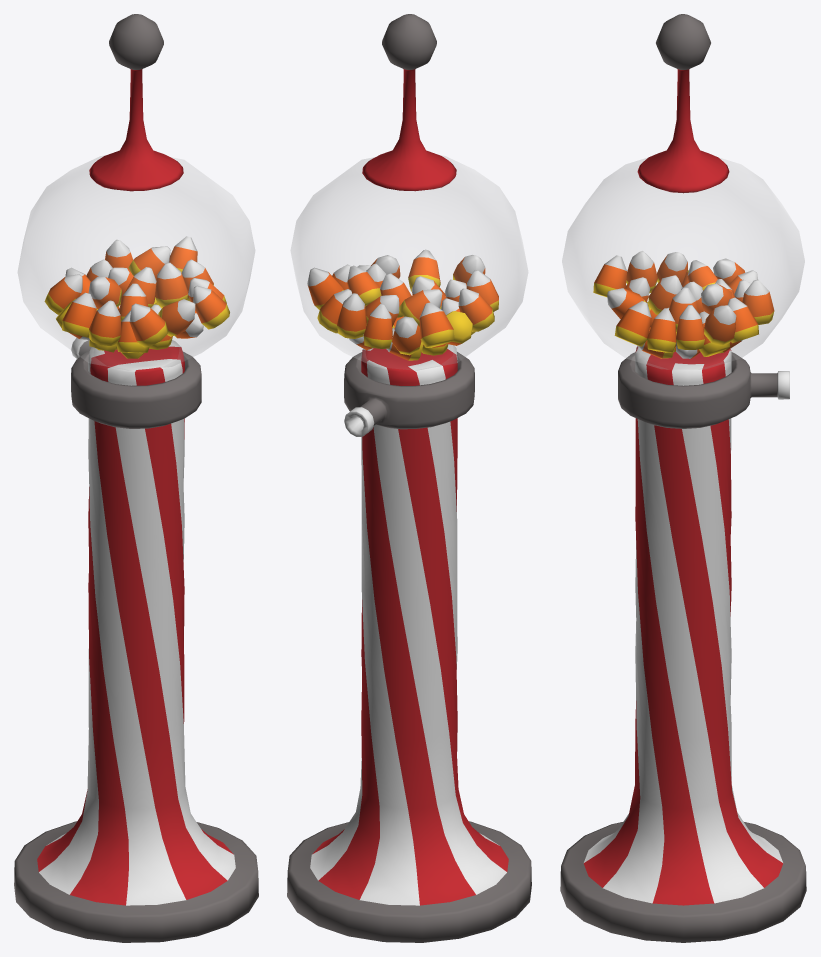
File: Tower_Attack_Speed (3).fbx
The picture shows the model from 3 angles, left to right: view 1: azimuth 30°, elevation 25°; view 2: azimuth 150°, elevation 25°; view 3: azimuth 270°, elevation 25°; orthographic projection.
Parts seen in each view (by area): view 1: Cylinder, Sphere, cane.023, ShootingRifle; view 2: Cylinder, Sphere, cane.023, ShootingRifle; view 3: Cylinder, Sphere, cane.023, ShootingRifle.
Boxes of the visible parts, left/top/right/bottom form: Cylinder: left=14, top=14, right=258, bottom=942; Sphere: left=18, top=156, right=254, bottom=370; cane.023: left=44, top=236, right=229, bottom=358; ShootingRifle: left=71, top=338, right=201, bottom=428; Cylinder: left=287, top=14, right=531, bottom=942; Sphere: left=290, top=156, right=527, bottom=370; cane.023: left=307, top=249, right=498, bottom=360; ShootingRifle: left=344, top=352, right=474, bottom=436; Cylinder: left=560, top=14, right=806, bottom=942; Sphere: left=562, top=158, right=804, bottom=369; cane.023: left=593, top=251, right=774, bottom=358; ShootingRifle: left=618, top=352, right=789, bottom=428.
Bounding box in the file's own units: 82.02 × 323 × 82.05.
